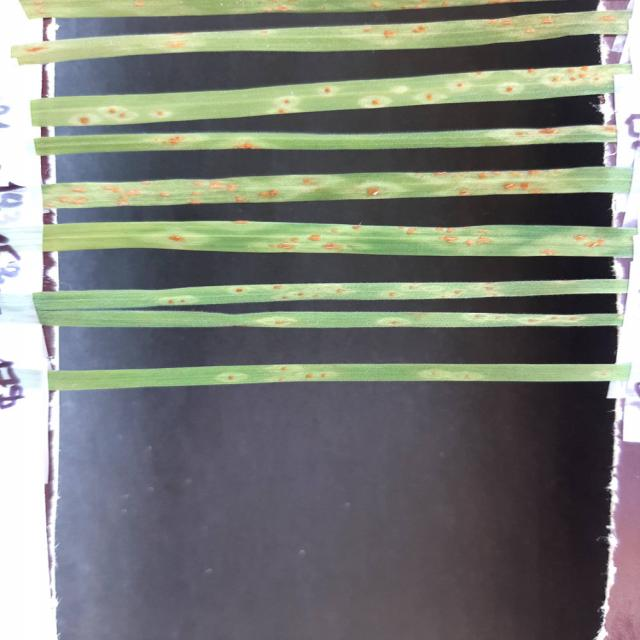wheat-stemrust: (30, 66, 614, 126), (16, 11, 625, 64), (44, 167, 626, 207), (48, 221, 627, 258), (38, 280, 597, 305), (21, 0, 521, 18), (187, 365, 490, 385), (236, 313, 619, 328), (111, 133, 340, 151), (440, 124, 618, 145)
